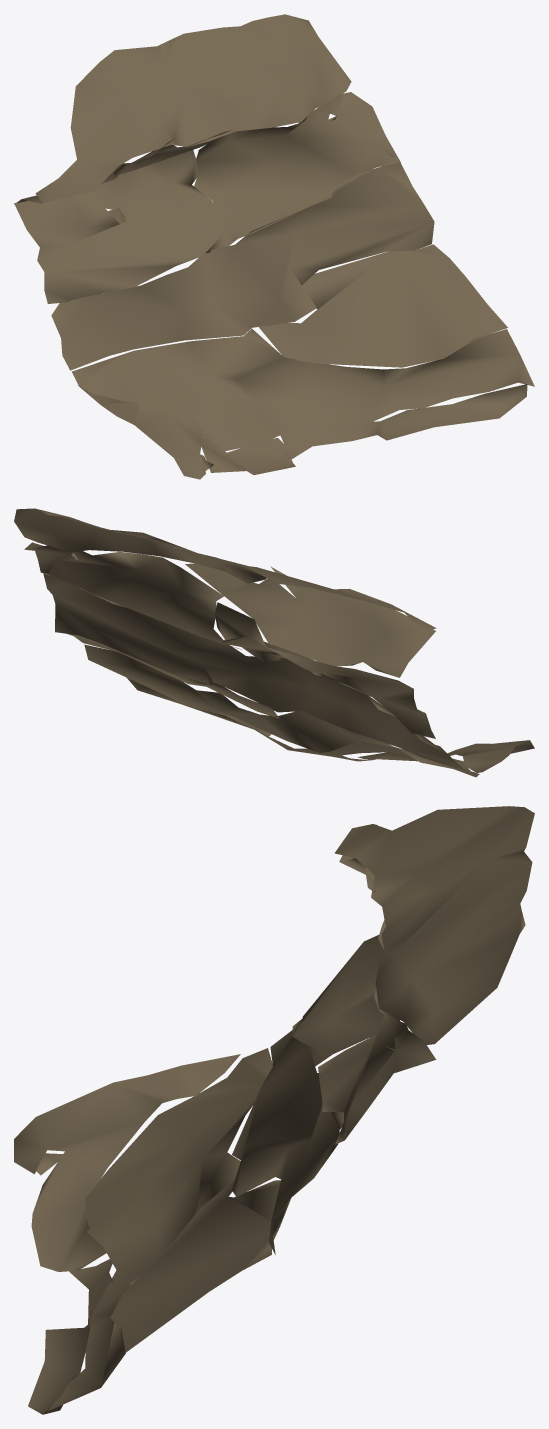
File: cliff-face-lod1.glb
3 renders of one model, top to bottom at view 1: azimuth 30°, elevation 25°; view 2: azimuth 150°, elevation 25°; view 3: azimuth 270°, elevation 25°, orthographic. The views are drawn at different scales.
Visible parts, largest first — view 1: cliff-face.001; view 2: cliff-face.001; view 3: cliff-face.001.
Boxes of the visible parts, x1,y1,x2,y2 form: cliff-face.001: (14,14,534,479); cliff-face.001: (14,508,534,777); cliff-face.001: (14,806,534,1414).
Size of the model in its own units: 11.02 by 8.05 by 8.47.
